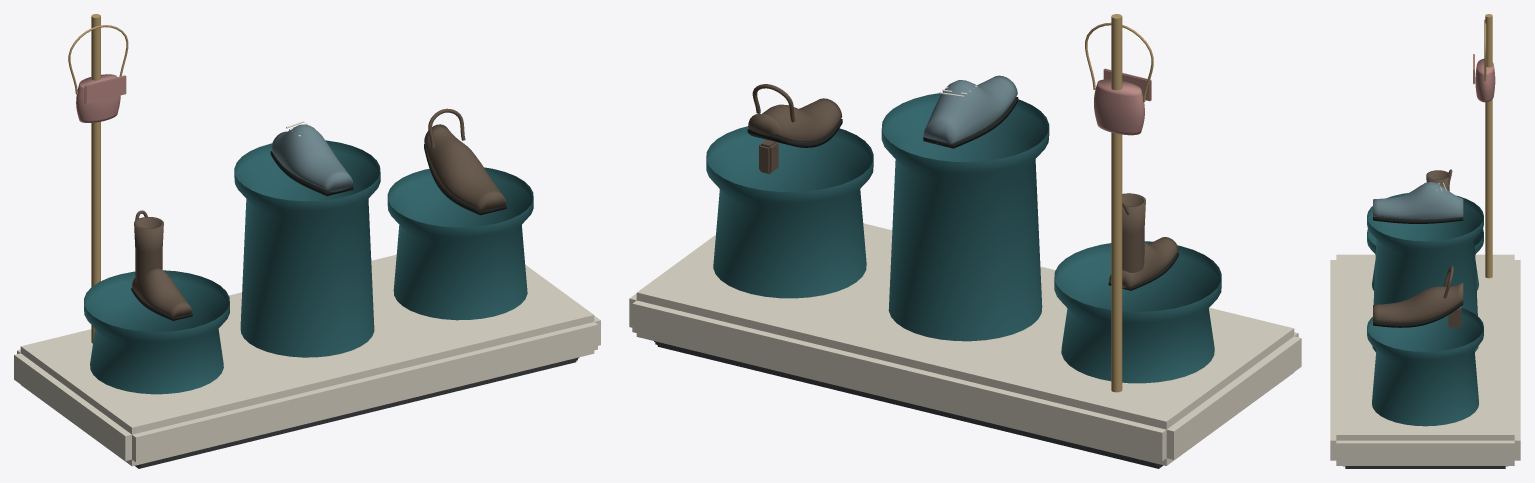
File: collection_v29_shoes_0.glb
The picture shows the model from 3 angles, left to right: view 1: azimuth 30°, elevation 25°; view 2: azimuth 150°, elevation 25°; view 3: azimuth 270°, elevation 25°; orthographic projection. The views are drawn at different scales.
Parts seen in each view (by area): view 1: collection_v29_shoes_0_V29_petrol_enamel, collection_v29_shoes_0_V29_ivory_lacquer, collection_v29_shoes_0_V23_smooth_leather.003, collection_v29_shoes_0_V23_smooth_leather.002, collection_v29_shoes_0_V23_sneaker_canvas, collection_v29_shoes_0_Satin_champagne, collection_v29_shoes_0_Anodised_graphite, collection_v29_shoes_0_V23_mineral_rose.001; view 2: collection_v29_shoes_0_V29_petrol_enamel, collection_v29_shoes_0_V29_ivory_lacquer, collection_v29_shoes_0_V23_sneaker_canvas, collection_v29_shoes_0_Satin_champagne, collection_v29_shoes_0_V23_smooth_leather.003, collection_v29_shoes_0_V23_smooth_leather.002, collection_v29_shoes_0_V23_mineral_rose.001, collection_v29_shoes_0_Anodised_graphite; view 3: collection_v29_shoes_0_V29_ivory_lacquer, collection_v29_shoes_0_V29_petrol_enamel, collection_v29_shoes_0_V23_smooth_leather.003, collection_v29_shoes_0_V23_sneaker_canvas, collection_v29_shoes_0_Satin_champagne, collection_v29_shoes_0_V23_mineral_rose.001, collection_v29_shoes_0_Anodised_graphite, collection_v29_shoes_0_Grip_rubber.005, collection_v29_shoes_0_Grip_rubber.004, collection_v29_shoes_0_V23_smooth_leather.002.
Part boxes in pixels (x1,y1,x2,y2): collection_v29_shoes_0_V29_petrol_enamel: (84,140,533,394); collection_v29_shoes_0_V29_ivory_lacquer: (14,254,600,466); collection_v29_shoes_0_V23_smooth_leather.003: (424,108,506,211); collection_v29_shoes_0_V23_smooth_leather.002: (131,210,192,317); collection_v29_shoes_0_V23_sneaker_canvas: (271,124,352,191); collection_v29_shoes_0_Satin_champagne: (91,14,100,343); collection_v29_shoes_0_Anodised_graphite: (135,357,579,468); collection_v29_shoes_0_V23_mineral_rose.001: (76,74,126,122); collection_v29_shoes_0_V29_petrol_enamel: (706,93,1221,383); collection_v29_shoes_0_V29_ivory_lacquer: (629,223,1301,465); collection_v29_shoes_0_V23_sneaker_canvas: (923,75,1017,143); collection_v29_shoes_0_Satin_champagne: (1111,14,1122,392); collection_v29_shoes_0_V23_smooth_leather.003: (748,84,842,173); collection_v29_shoes_0_V23_smooth_leather.002: (1109,193,1178,288); collection_v29_shoes_0_V23_mineral_rose.001: (1094,68,1151,135); collection_v29_shoes_0_Anodised_graphite: (654,341,1163,468); collection_v29_shoes_0_V29_ivory_lacquer: (1330,254,1520,465); collection_v29_shoes_0_V29_petrol_enamel: (1367,193,1483,426); collection_v29_shoes_0_V23_smooth_leather.003: (1373,265,1463,327); collection_v29_shoes_0_V23_sneaker_canvas: (1373,181,1463,219); collection_v29_shoes_0_Satin_champagne: (1485,14,1492,278); collection_v29_shoes_0_V23_mineral_rose.001: (1473,54,1495,102); collection_v29_shoes_0_Anodised_graphite: (1343,466,1507,468); collection_v29_shoes_0_Grip_rubber.005: (1373,301,1463,327); collection_v29_shoes_0_Grip_rubber.004: (1373,216,1463,223); collection_v29_shoes_0_V23_smooth_leather.002: (1426,169,1452,191).
Bounding box in the file's own units: 1.8 × 1.36 × 0.78.
